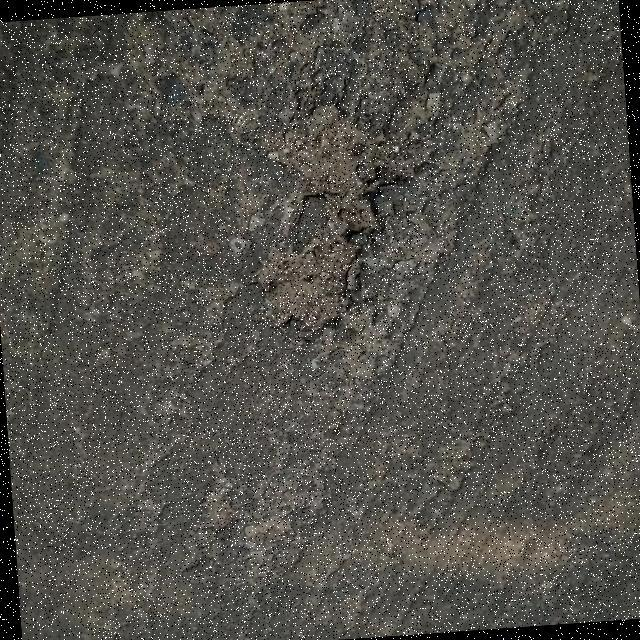Pothole: (250, 97, 400, 335)
